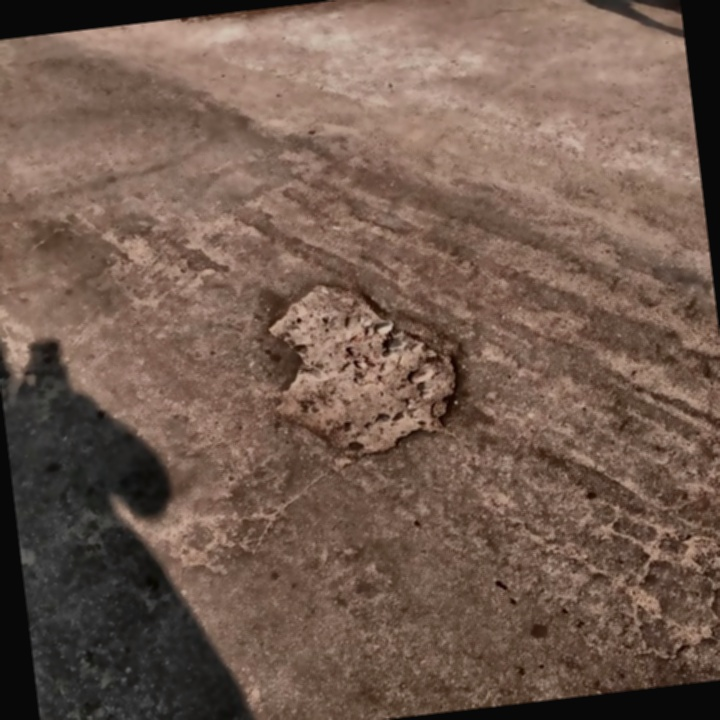pothole: (260, 267, 474, 469)
